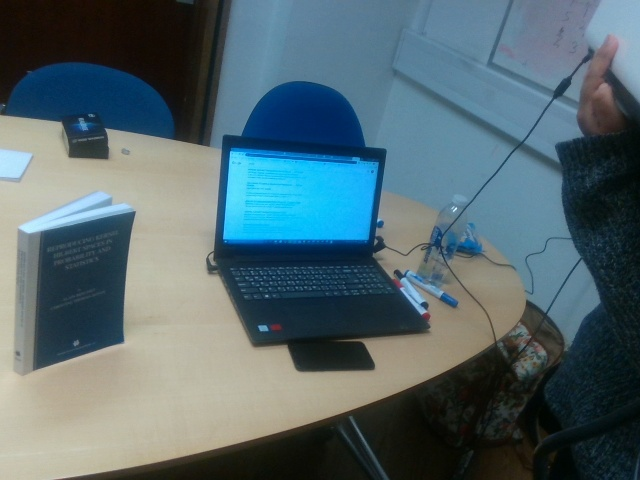book: (10, 191, 136, 378)
